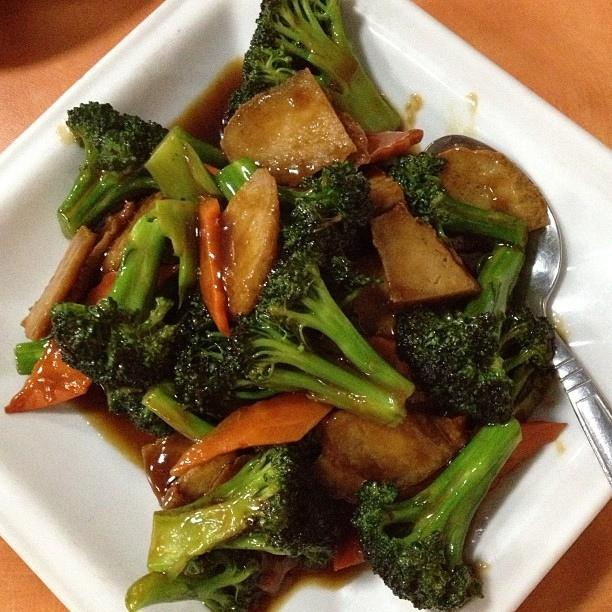broccoli: (348, 418, 522, 612), (148, 433, 342, 580), (41, 208, 187, 393), (391, 239, 526, 425), (222, 1, 402, 132), (57, 101, 168, 240), (385, 152, 529, 248), (278, 197, 384, 311), (142, 126, 230, 222), (277, 162, 372, 236), (193, 549, 264, 612), (170, 330, 230, 404), (142, 387, 215, 443), (13, 336, 54, 376)
carrot: (170, 391, 334, 476), (5, 337, 92, 413), (489, 420, 568, 492), (197, 197, 230, 337), (366, 128, 424, 164), (332, 530, 366, 571)
